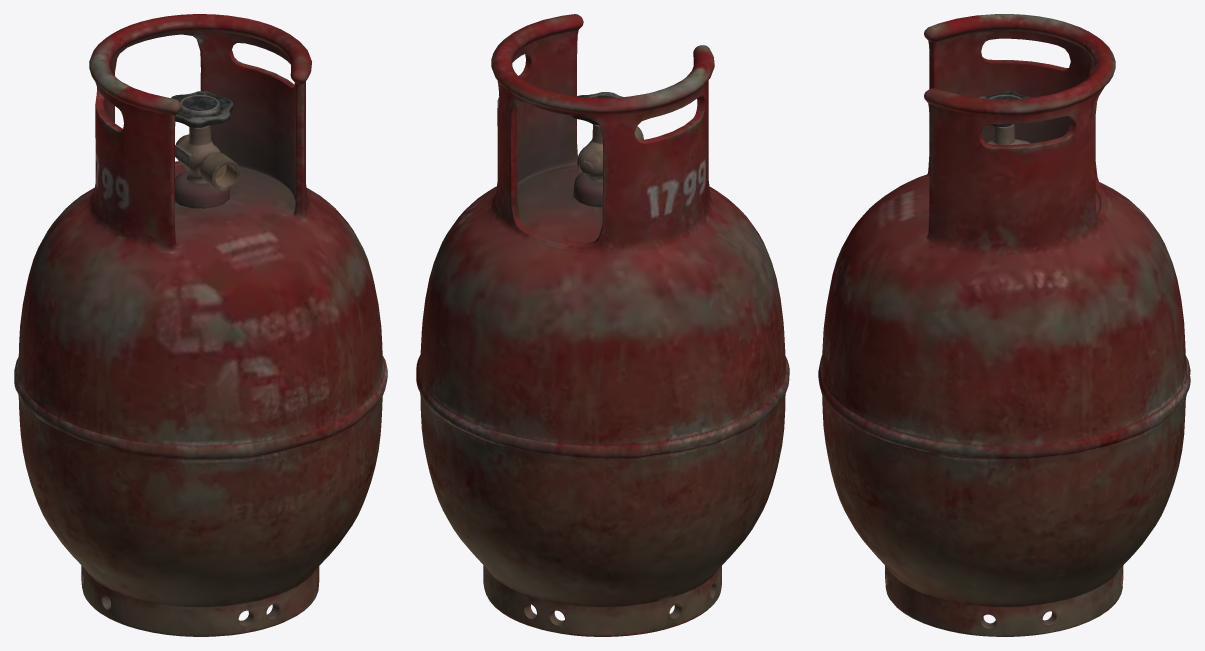
The model's file is small_lpg_tank.glb.
3 renders of one model, left to right at view 1: azimuth 30°, elevation 25°; view 2: azimuth 150°, elevation 25°; view 3: azimuth 270°, elevation 25°, orthographic.
Visible parts, largest first — view 1: small_lpg_tank; view 2: small_lpg_tank; view 3: small_lpg_tank.
Boxes of the visible parts, <box> form: small_lpg_tank: <box>14,14,387,636</box>; small_lpg_tank: <box>416,14,789,636</box>; small_lpg_tank: <box>818,14,1190,636</box>.
Bounding box in the file's own units: 0.41 × 0.642 × 0.4092.
Materials: 1 (1 with a texture image).
